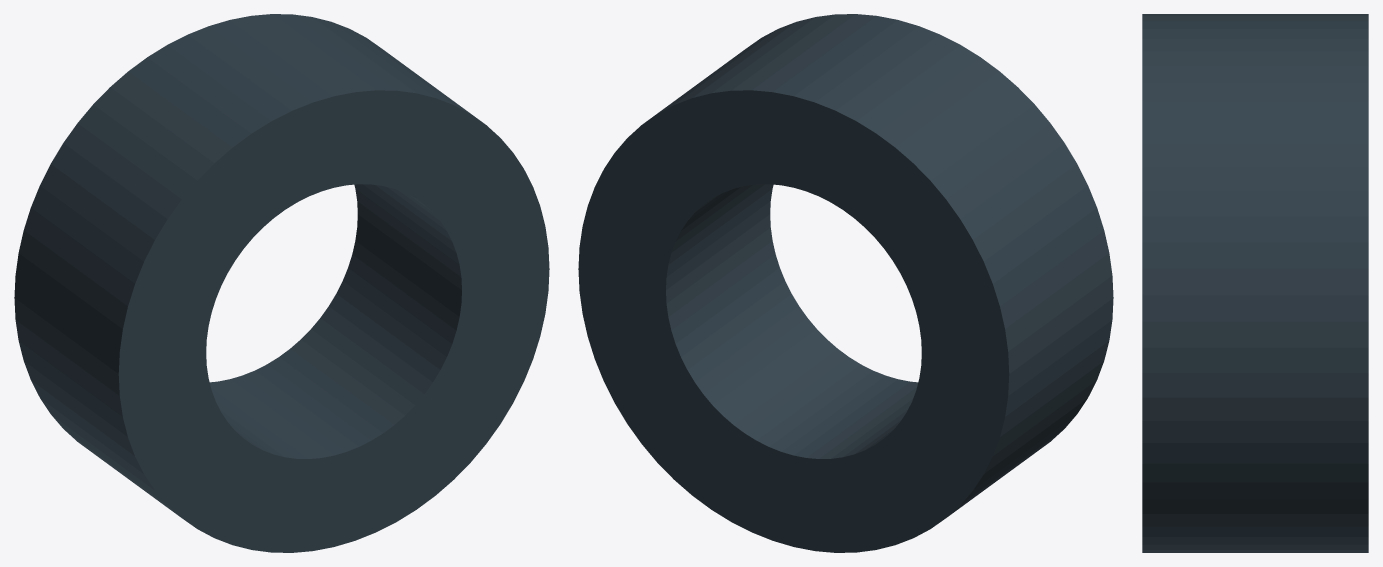
The model's file is wheel.glb.
3 renders of one model, left to right at view 1: azimuth 30°, elevation 25°; view 2: azimuth 150°, elevation 25°; view 3: azimuth 270°, elevation 25°, orthographic. The views are drawn at different scales.
Parts seen in each view (by area): view 1: Cylinder; view 2: Cylinder; view 3: Cylinder.
Part boxes in pixels (x1,y1,x2,y2): Cylinder: [14, 14, 549, 552]; Cylinder: [578, 14, 1113, 552]; Cylinder: [1142, 14, 1368, 552].
Size of the model in its own units: 1.39 by 1.39 by 0.584.
